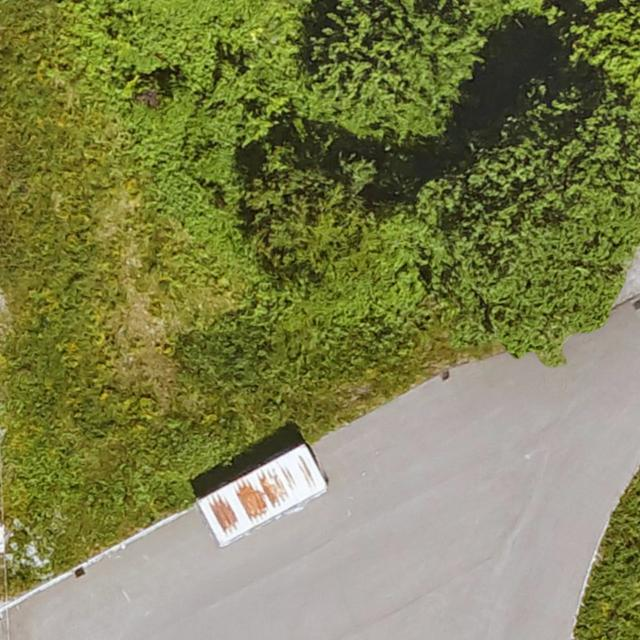tree: (445, 85, 634, 356), (310, 0, 473, 144), (252, 152, 408, 295)
